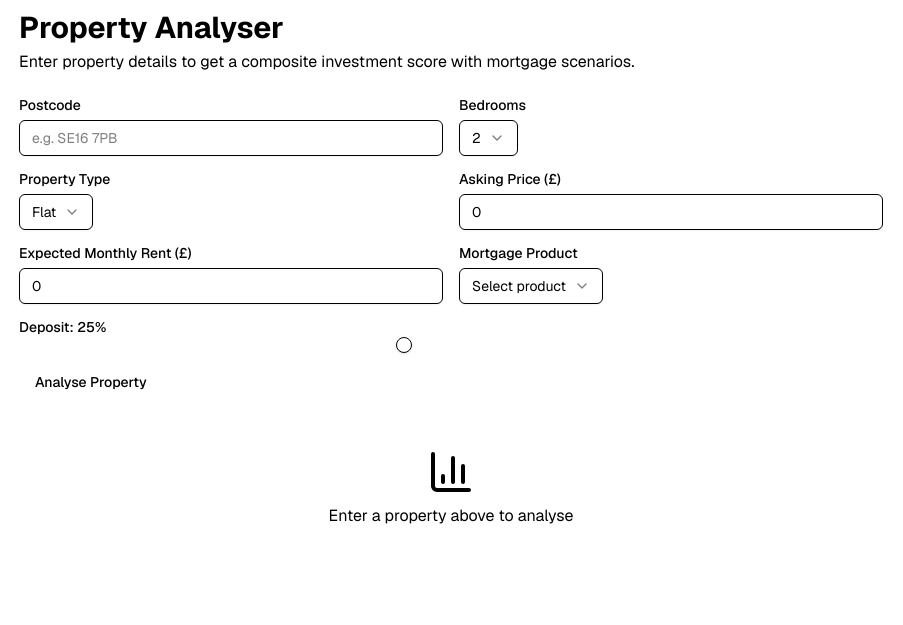
Scenario: Analyse page › shows validation error when askingPrice is 30000
Replace the text in the number field labelled "Asking Price (£)" with "30000": coordinates (671, 212) left=459, top=194, right=883, bottom=230
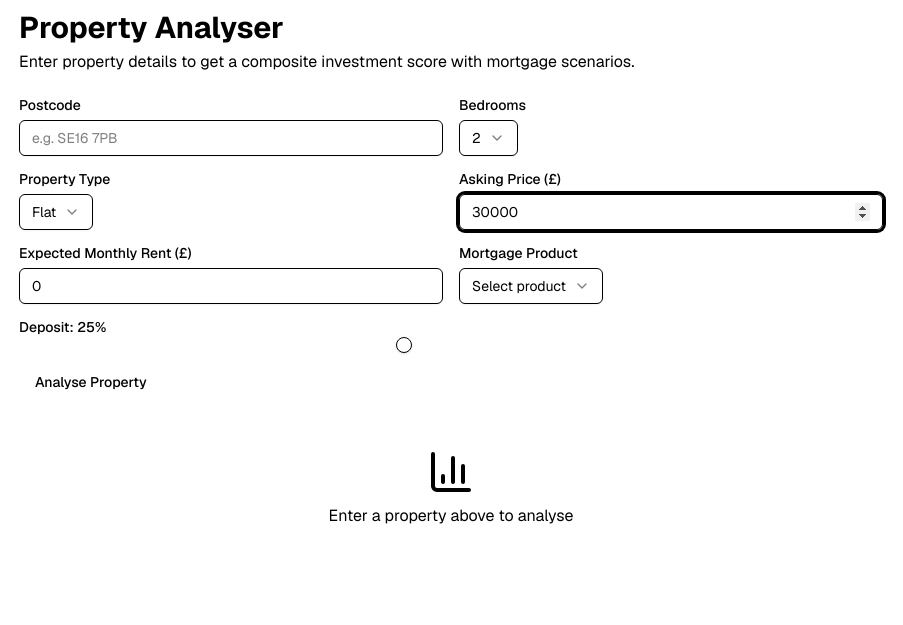
Click the button "Analyse Property": coordinates (91, 382) left=19, top=364, right=163, bottom=400
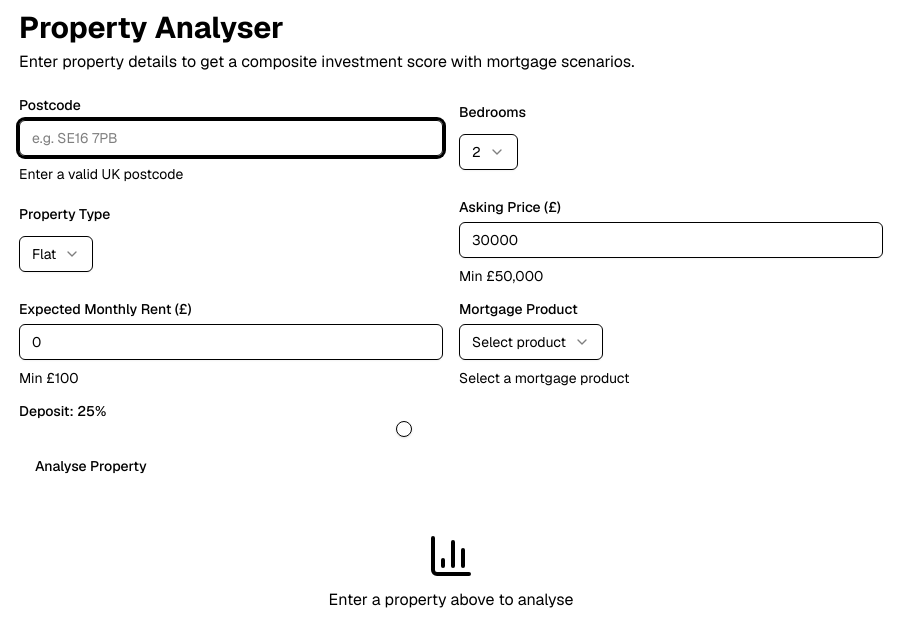
Expected: the text "Min £50,000" is shown, left=459, top=267, right=543, bottom=285
